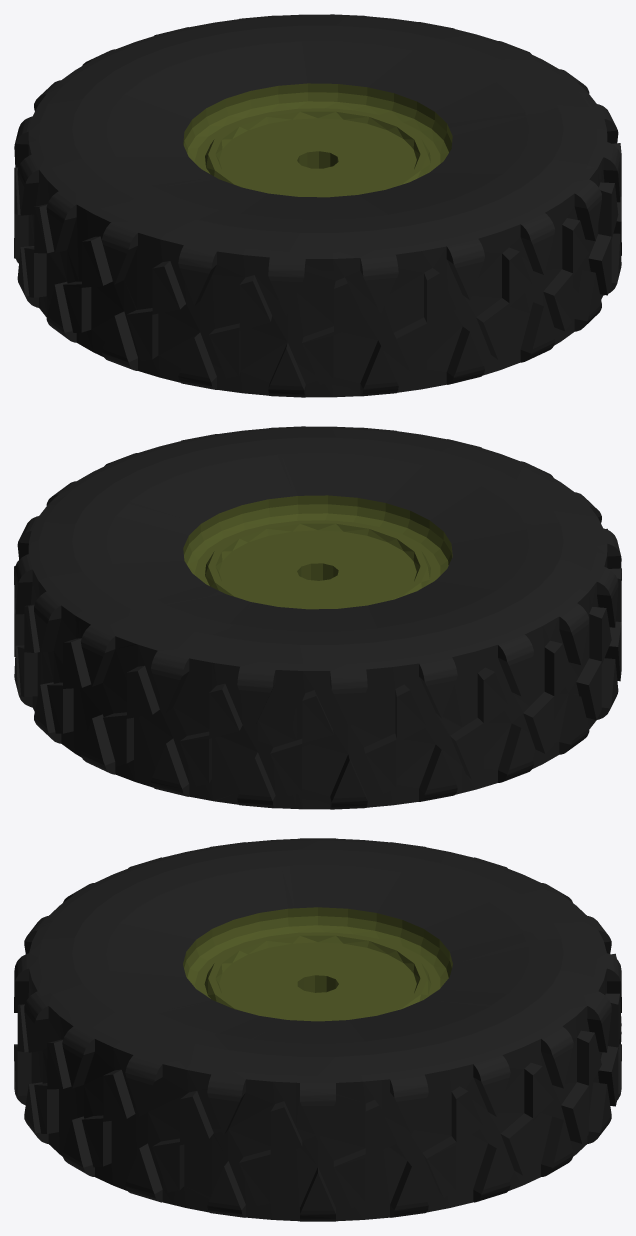
The model's file is man_wheel_right.obj.
3 views of the same model, one above another, from view 1: azimuth 30°, elevation 25°; view 2: azimuth 150°, elevation 25°; view 3: azimuth 270°, elevation 25° (orthographic).
Visible parts, largest first — view 1: test.000; view 2: test.000; view 3: test.000.
Boxes of the visible parts, <box> form: test.000: <box>14,14,621,397</box>; test.000: <box>14,426,621,809</box>; test.000: <box>14,838,621,1221</box>.
Bounding box in the file's own units: 1.26 × 0.3504 × 1.26.
